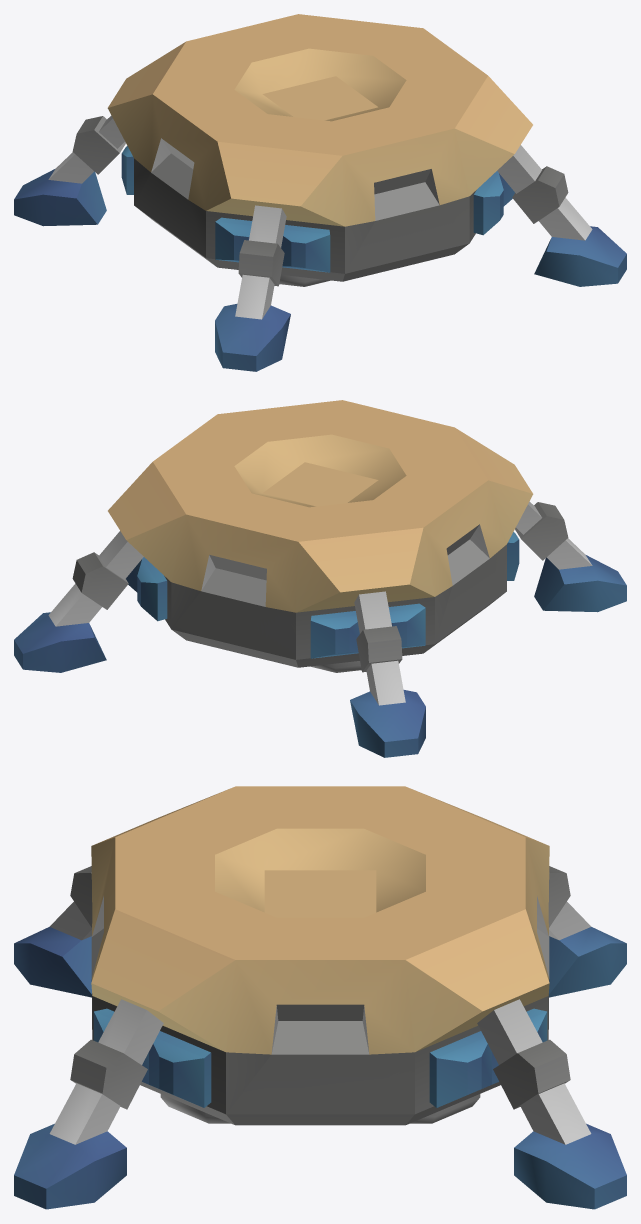
The model's file is sniper_nest.glb.
The picture shows the model from 3 angles, top to bottom: view 1: azimuth 30°, elevation 25°; view 2: azimuth 150°, elevation 25°; view 3: azimuth 270°, elevation 25°; orthographic projection. The views are drawn at different scales.
Bounding box in the file's own units: 1.34 × 0.5 × 1.34.
